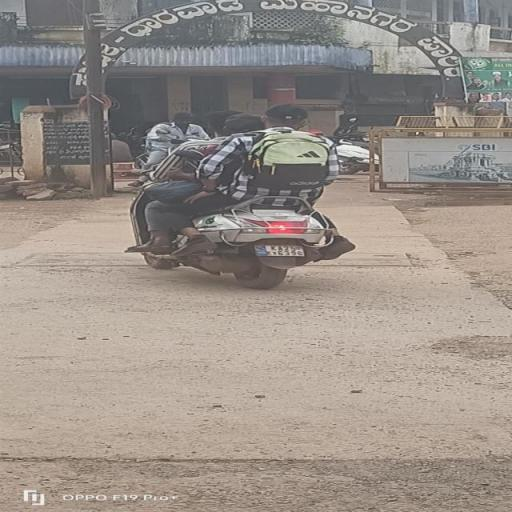tripple riding: (130, 100, 353, 204)
